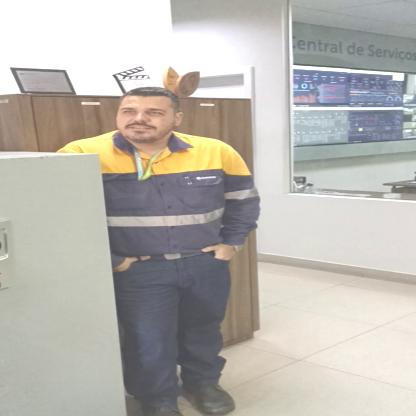Operacional: (64, 134, 262, 258)
